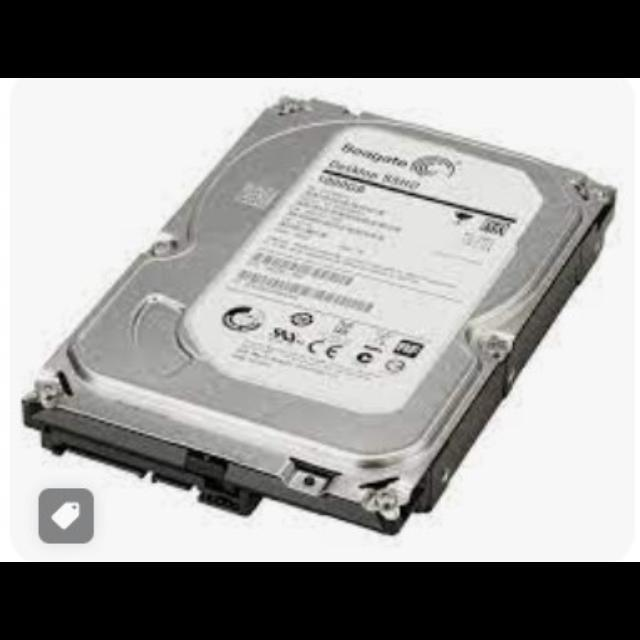HDD: (20, 96, 618, 540)
